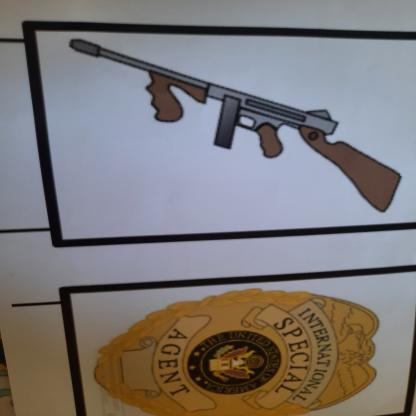Bootlegger: (43, 25, 416, 221)
G-man: (86, 283, 391, 416)
